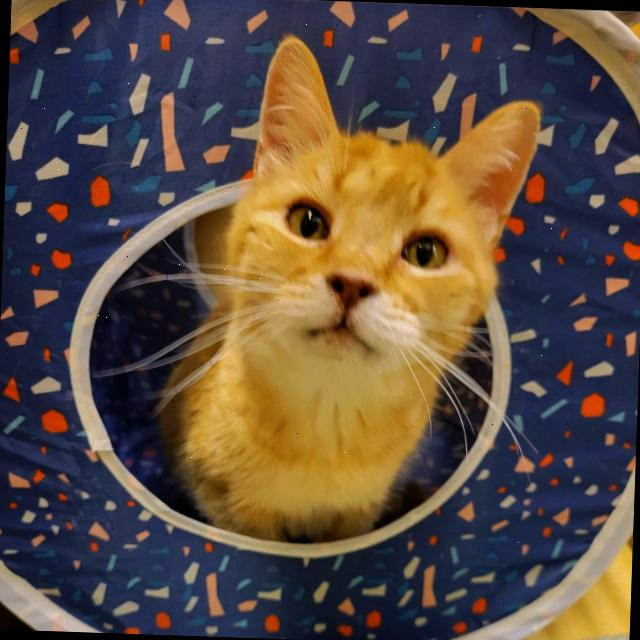american_shorthair_cat: (212, 30, 548, 397)
